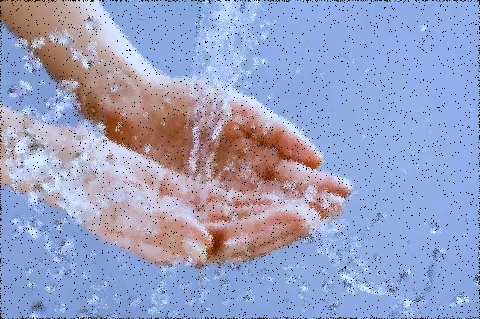washing hand: (79, 5, 400, 290)
